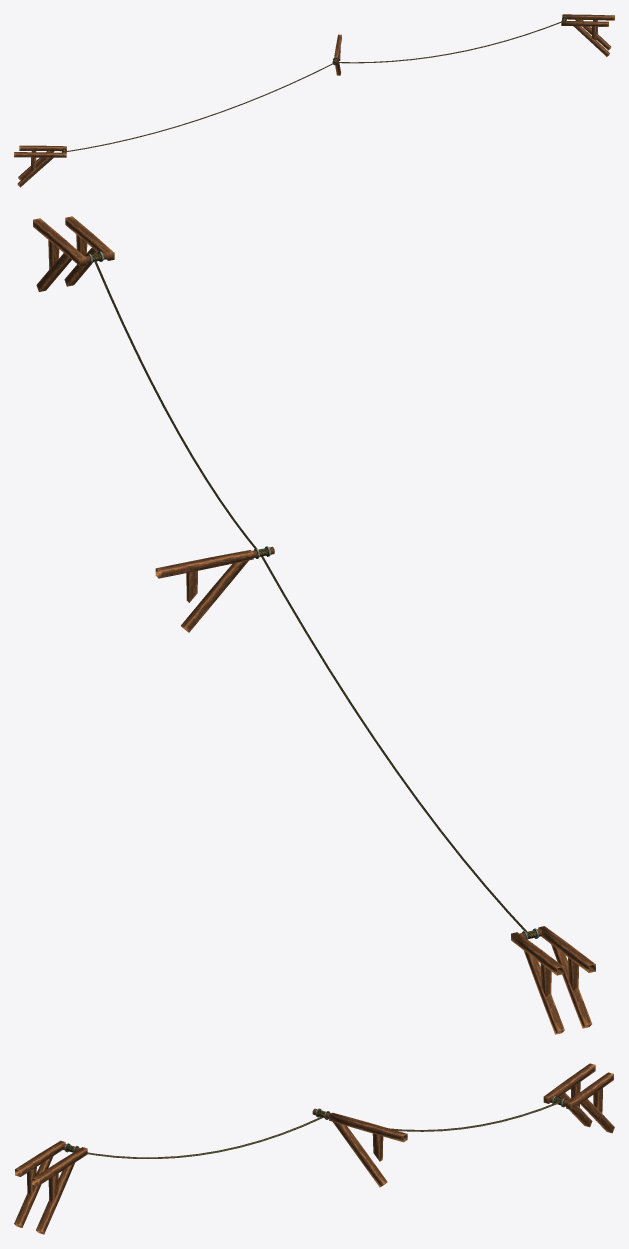
File: INST_SWORDLIGHT_ZIPLINEBRACKETS.fbx
3 views of the same model, one above another, from view 1: azimuth 30°, elevation 25°; view 2: azimuth 150°, elevation 25°; view 3: azimuth 270°, elevation 25° (orthographic). The views are drawn at different scales.
Parts seen in each view (by area): view 1: INST_SWORDLIGHT_ZIPLINEBRACKETS; view 2: INST_SWORDLIGHT_ZIPLINEBRACKETS; view 3: INST_SWORDLIGHT_ZIPLINEBRACKETS.
Part boxes in pixels (x1=…): INST_SWORDLIGHT_ZIPLINEBRACKETS: x1=14, y1=14, x2=614, y2=187; INST_SWORDLIGHT_ZIPLINEBRACKETS: x1=33, y1=216, x2=595, y2=1034; INST_SWORDLIGHT_ZIPLINEBRACKETS: x1=14, y1=1063, x2=614, y2=1234.
Size of the model in its own units: 385008 by 151651 by 263069.
Materials: 6 (6 with a texture image).
